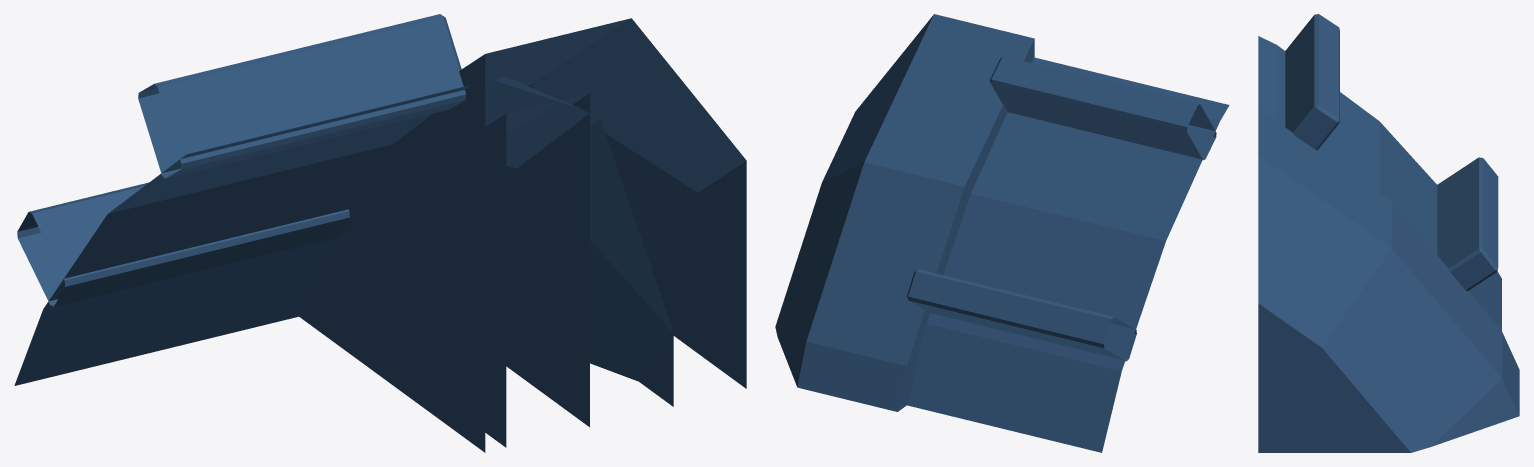
Rendered from cell_61.obj.
The picture shows the model from 3 angles, left to right: view 1: azimuth 30°, elevation 25°; view 2: azimuth 150°, elevation 25°; view 3: azimuth 270°, elevation 25°; orthographic projection. The views are drawn at different scales.
Size of the model in its own units: 0.5745 by 0.407 by 0.3637.
